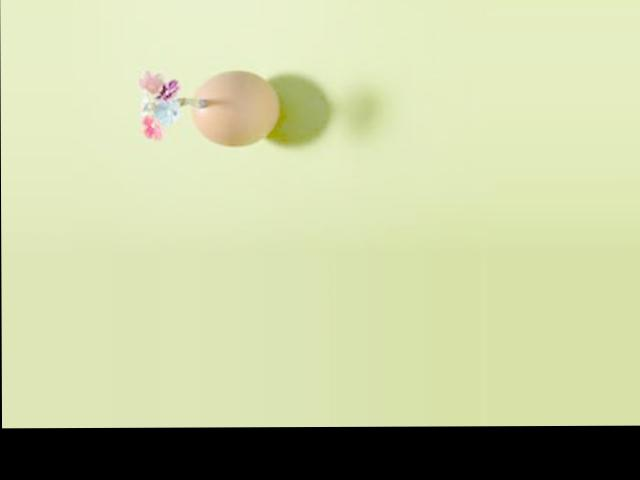egg: (193, 70, 281, 146)
